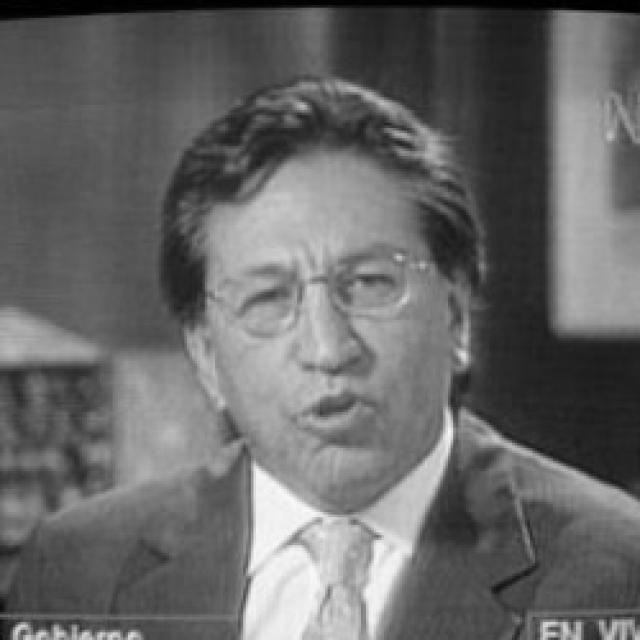real: (204, 144, 456, 510), (234, 246, 416, 334)
